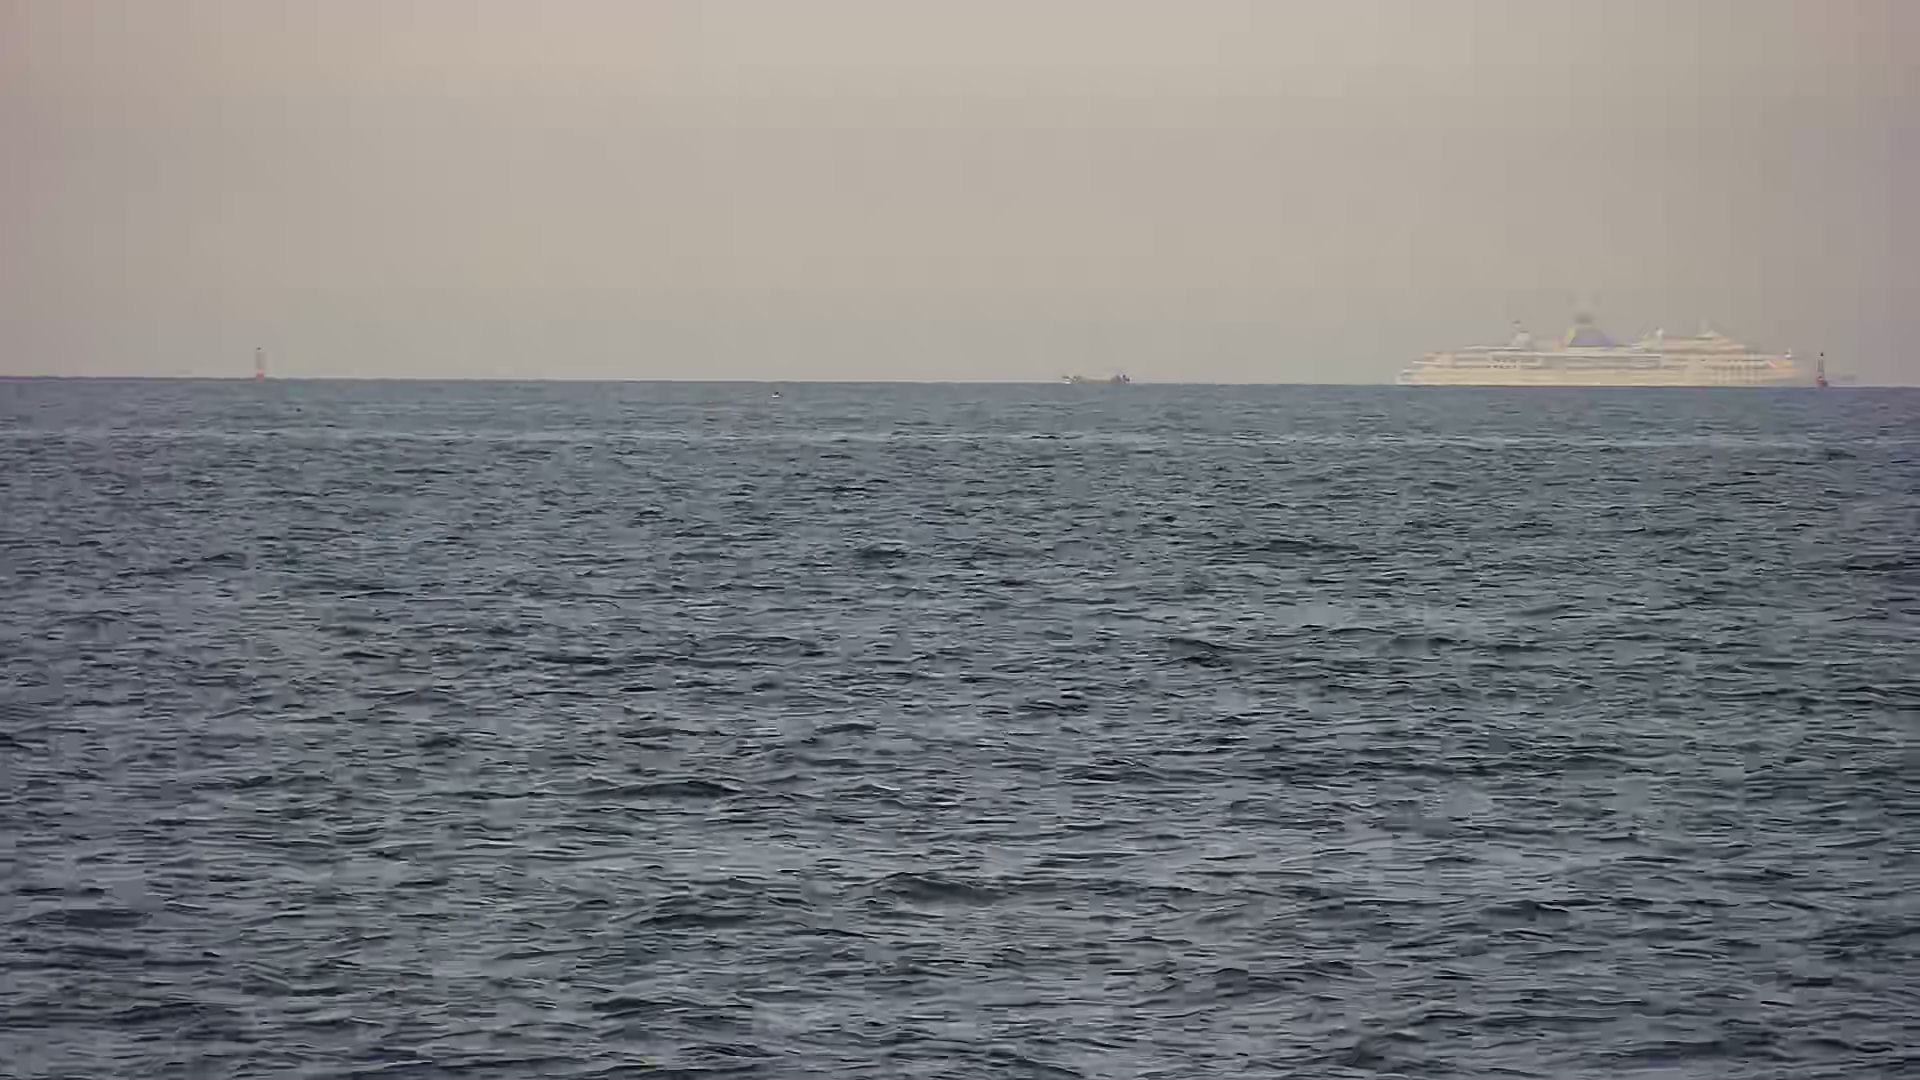ship: (1356, 297, 1837, 411)
